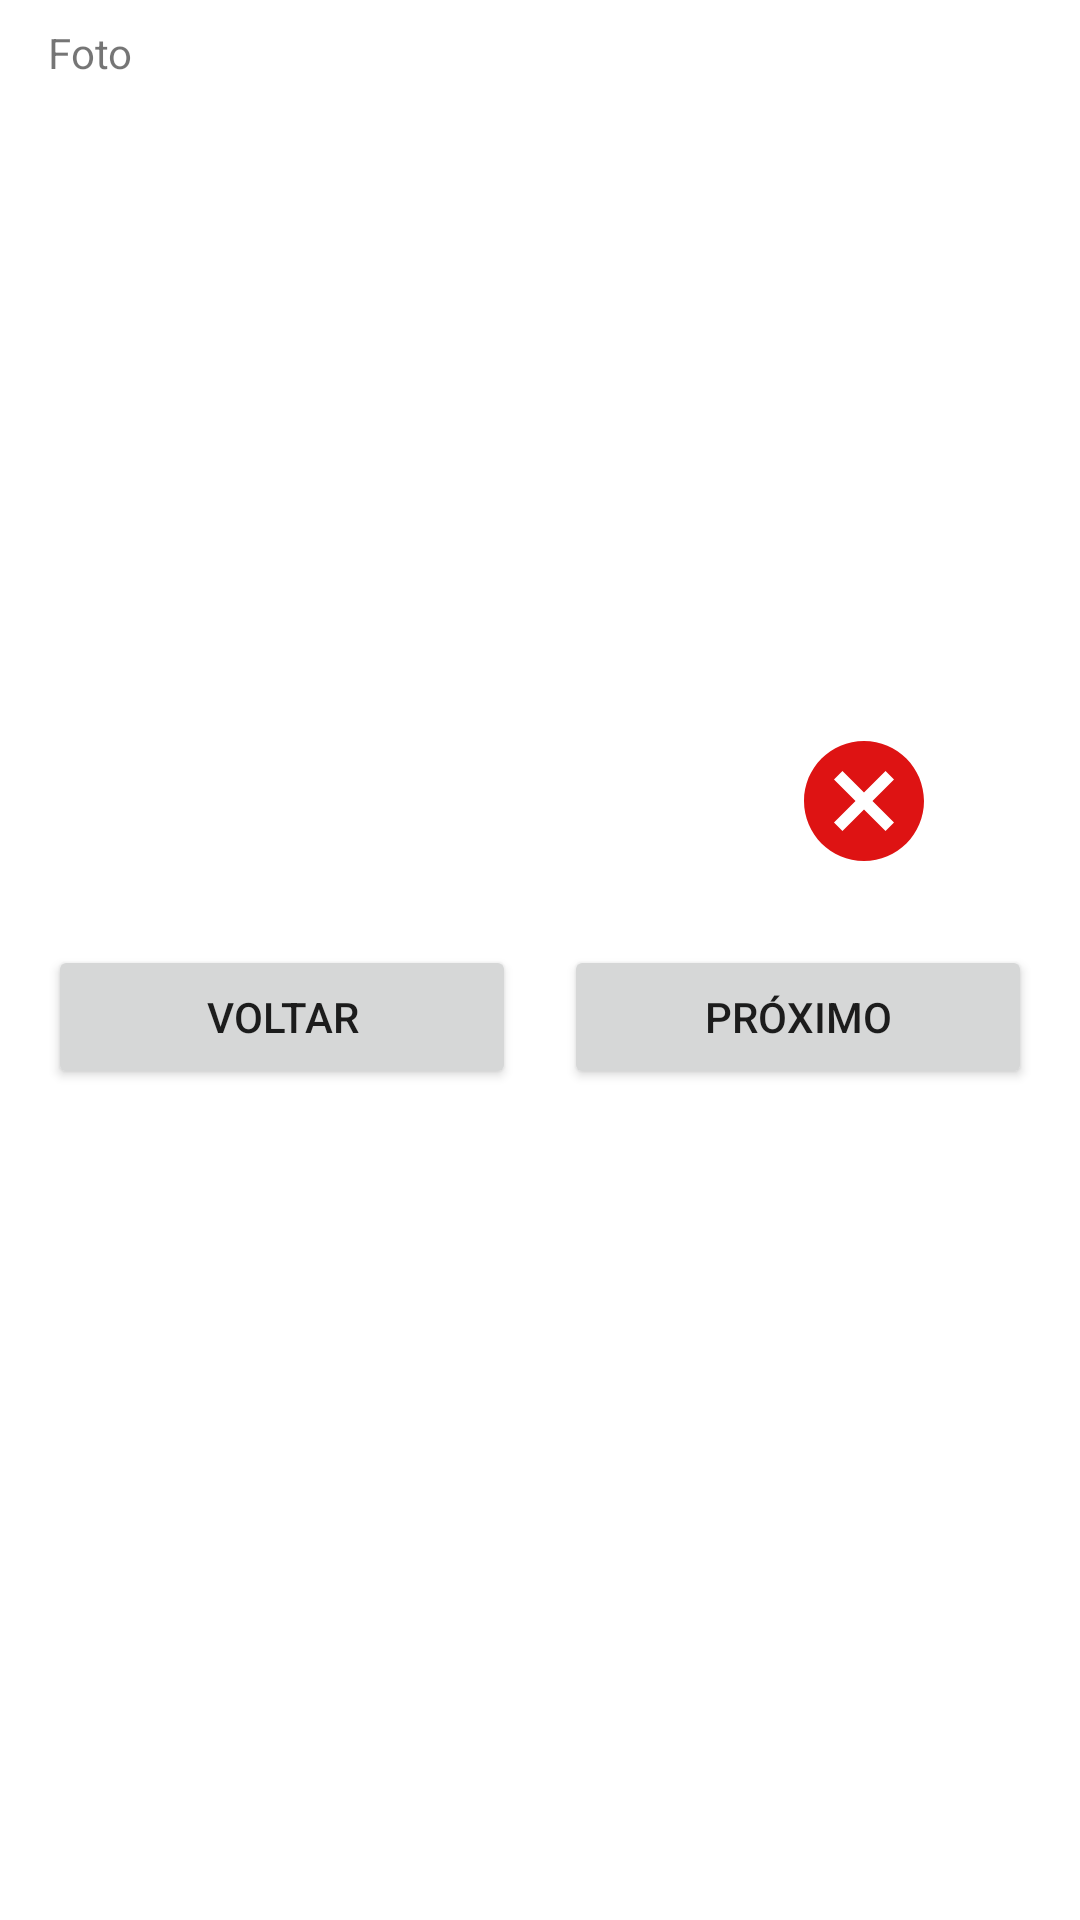

Screen size 1080px×1920px. Icon name, then its center in pixels as (x=x, y=y):
cancel: (x=864, y=801)
